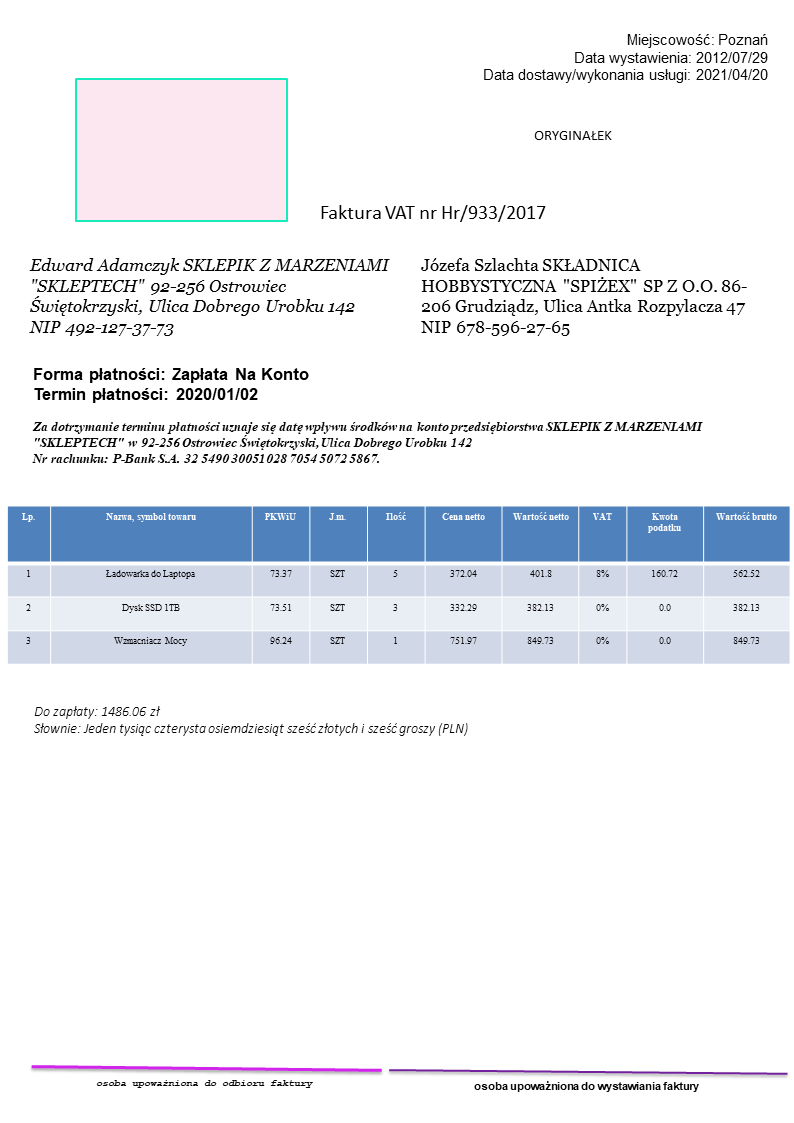Table: (5, 505, 794, 665)
TextBox: (28, 417, 704, 466), (26, 251, 394, 338), (418, 254, 751, 340), (30, 698, 471, 741), (479, 30, 773, 87), (30, 363, 314, 404), (317, 200, 546, 225), (471, 1077, 702, 1097), (92, 1077, 315, 1092), (532, 127, 614, 145)
